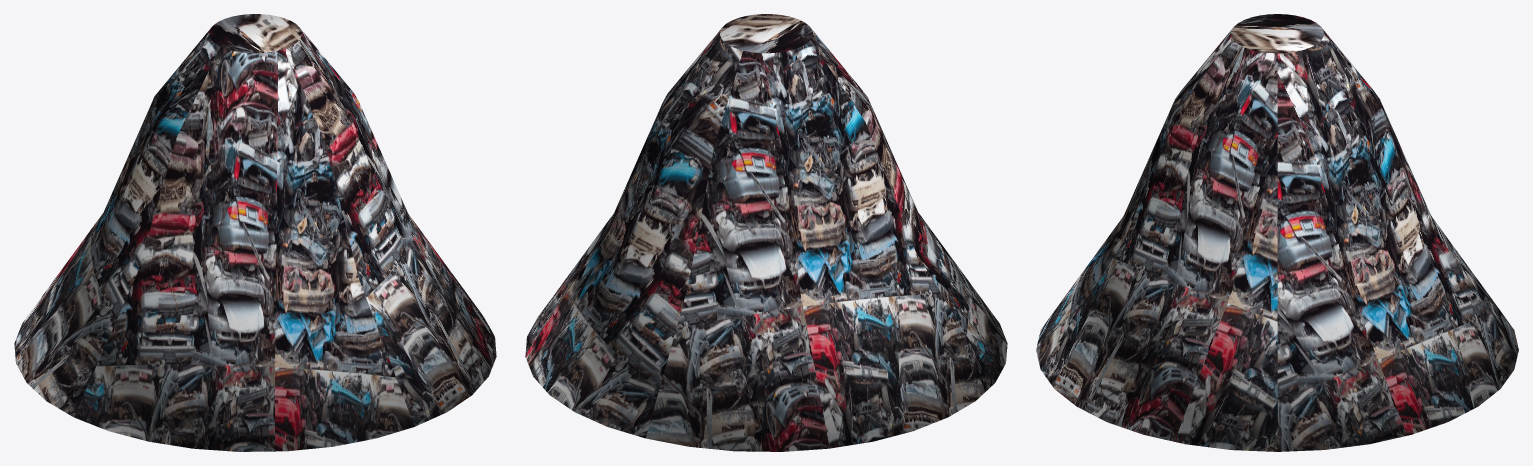
Rendered from Kuda.fbx.
3 views of the same model, side by side, from view 1: azimuth 30°, elevation 25°; view 2: azimuth 150°, elevation 25°; view 3: azimuth 270°, elevation 25° (orthographic).
Parts seen in each view (by area): view 1: Cylinder; view 2: Cylinder; view 3: Cylinder.
Boxes of the visible parts, x1,y1,x2,y2 form: Cylinder: (14, 14, 496, 451); Cylinder: (525, 14, 1007, 451); Cylinder: (1036, 14, 1518, 451).
Bounding box in the file's own units: 360 × 260 × 360.
